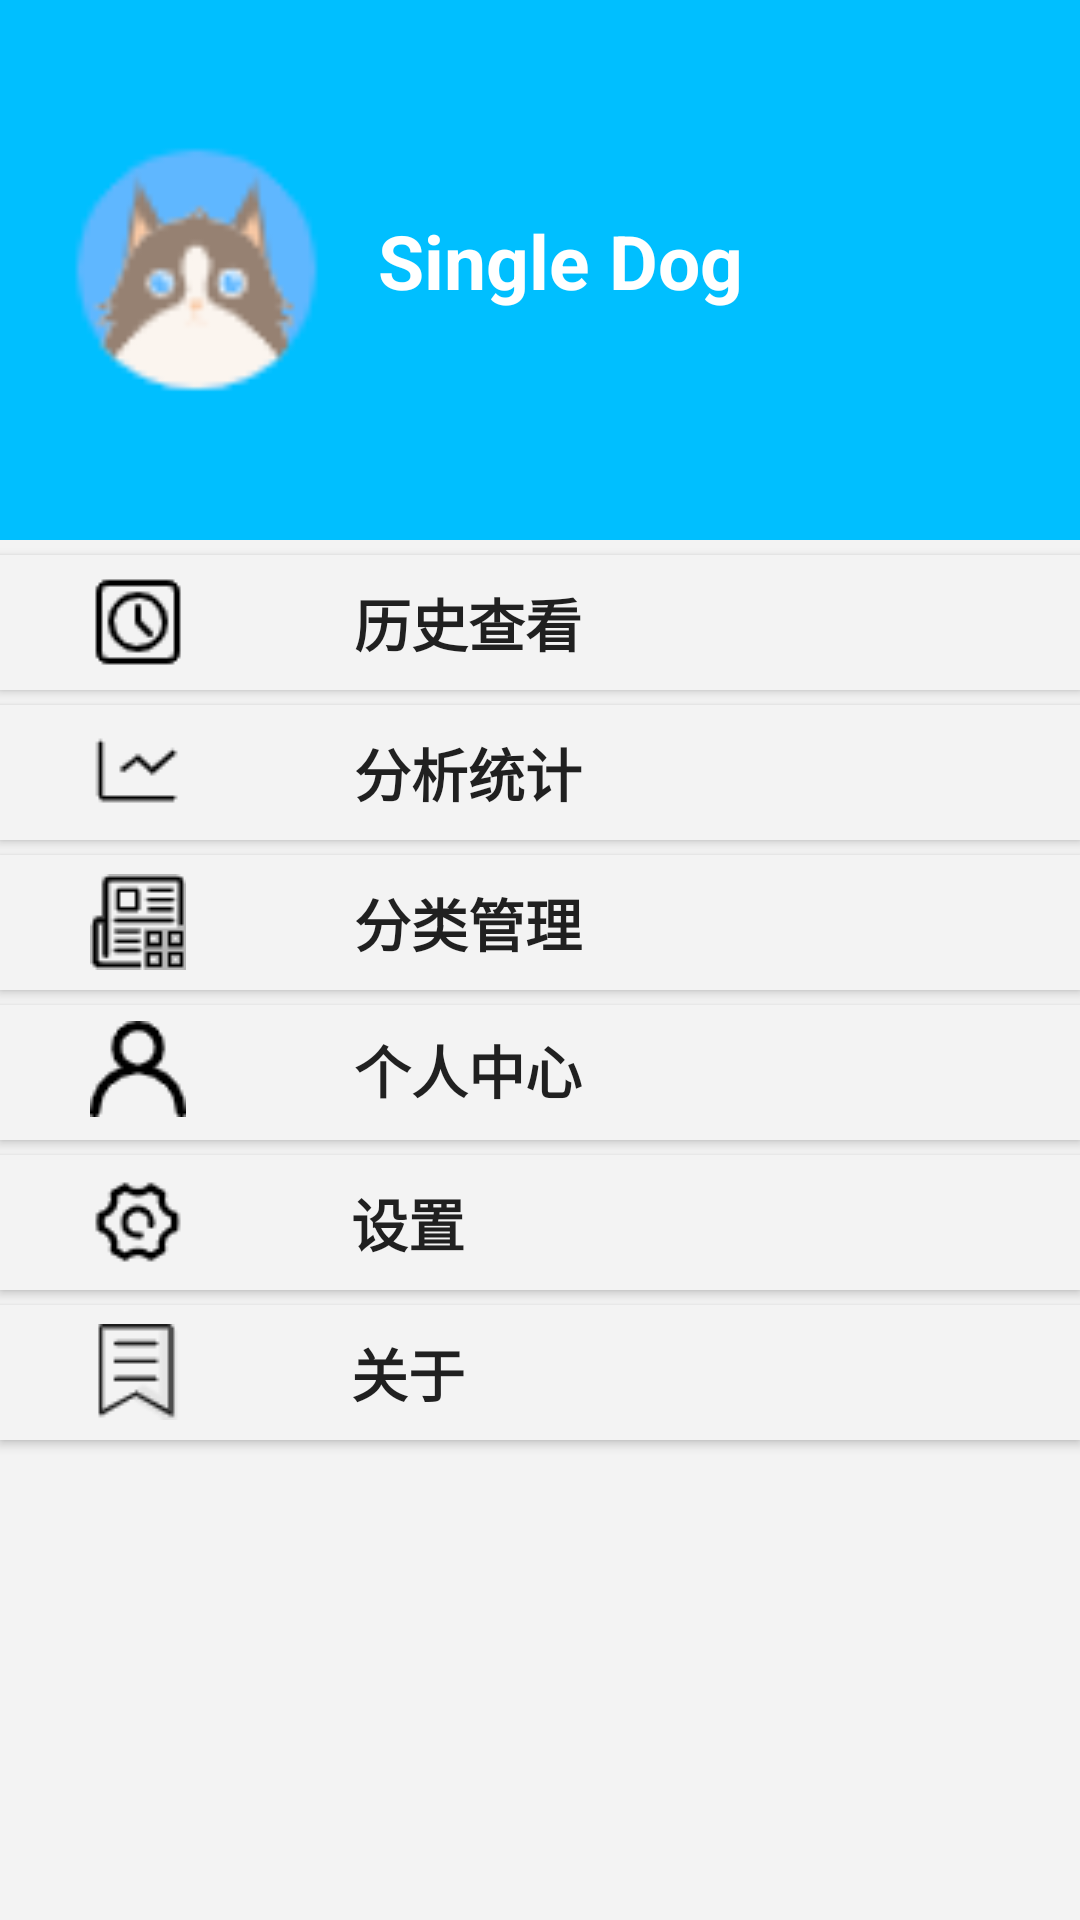

Point at icon controls on the screen. Image size 1080px×1920px, points as point (x, y).
ih touxiang: point (196, 270)
